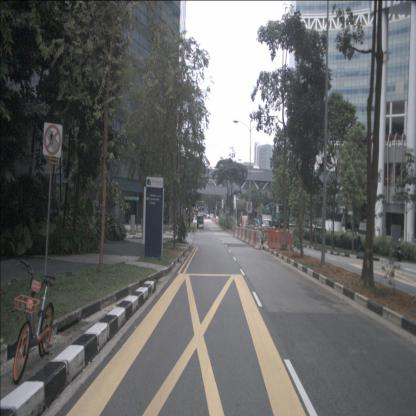barrier: (267, 230, 288, 249), (282, 233, 294, 251), (254, 231, 262, 249), (252, 230, 259, 248), (249, 230, 255, 246), (245, 229, 251, 244), (247, 229, 252, 244), (243, 229, 248, 242), (241, 228, 246, 240), (237, 227, 242, 239), (234, 226, 239, 238), (239, 228, 244, 239), (236, 227, 240, 238), (233, 227, 236, 237)
cone: (128, 217, 131, 225)
